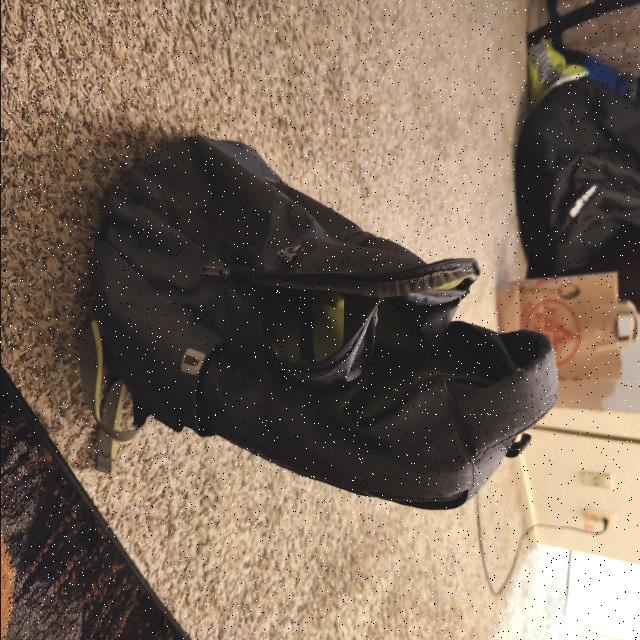bag: (103, 126, 554, 502)
